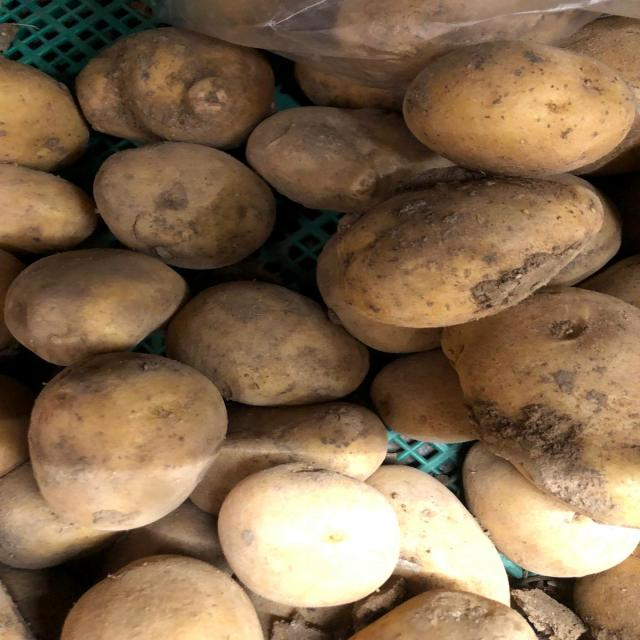potato: (305, 157, 608, 334), (20, 341, 232, 535), (393, 28, 639, 182), (164, 269, 389, 406), (87, 134, 285, 274)
